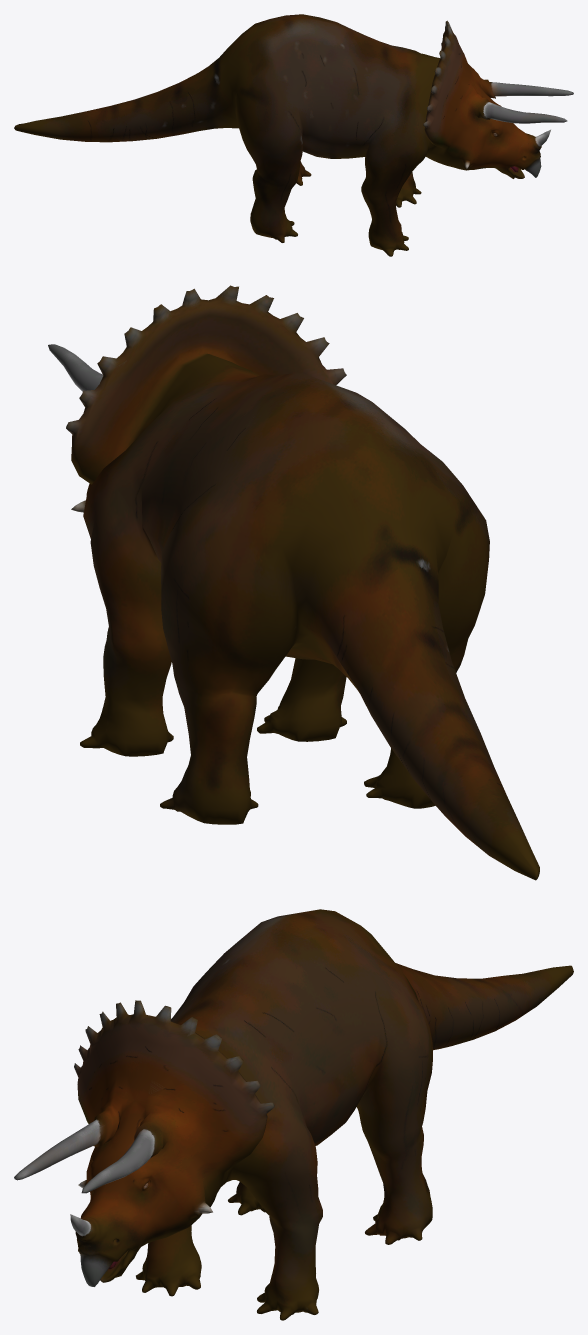
The model's file is Triceratop.fbx.
The picture shows the model from 3 angles, top to bottom: view 1: azimuth 30°, elevation 25°; view 2: azimuth 150°, elevation 25°; view 3: azimuth 270°, elevation 25°; orthographic projection. The views are drawn at different scales.
Parts seen in each view (by area): view 1: node_id5; view 2: node_id5; view 3: node_id5.
Part boxes in pixels (x1,y1,x2,y2): node_id5: [14, 14, 573, 256]; node_id5: [48, 285, 539, 880]; node_id5: [14, 909, 573, 1320].
Size of the model in its own units: 0.43 by 0.2178 by 0.3339.
Materials: 1 (1 with a texture image).
